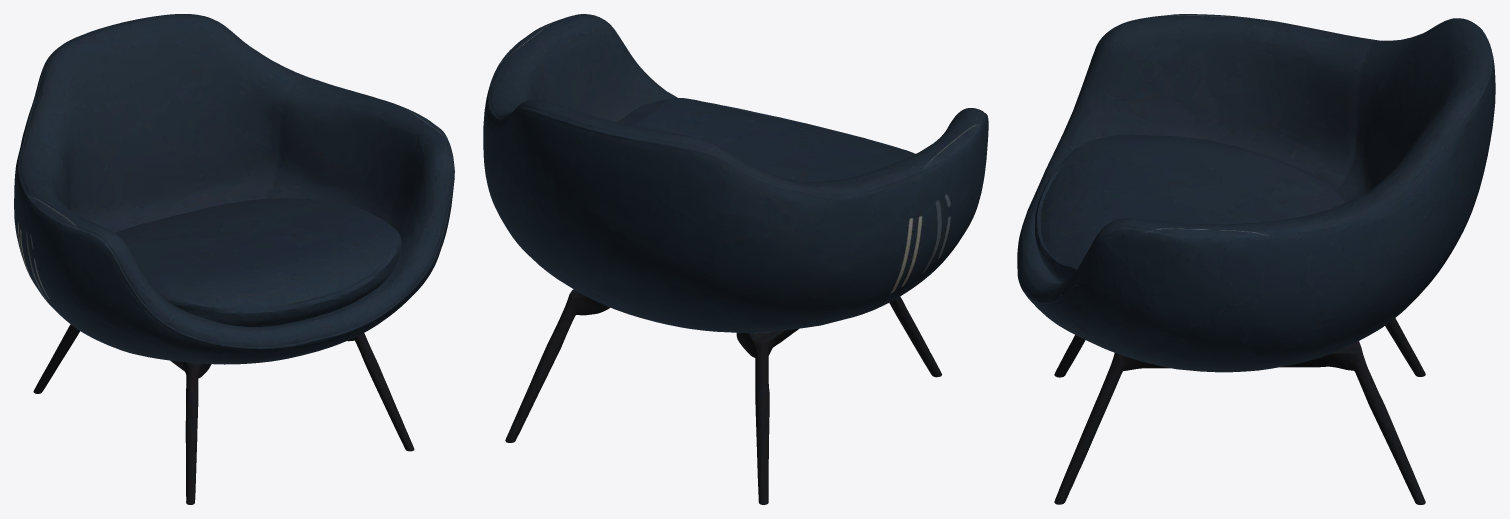
File: armchair.glb
3 renders of one model, left to right at view 1: azimuth 30°, elevation 25°; view 2: azimuth 150°, elevation 25°; view 3: azimuth 270°, elevation 25°, orthographic. The views are drawn at different scales.
Bounding box in the file's own units: 1.9 × 1.5 × 1.7.
1 material, 1 textured.
